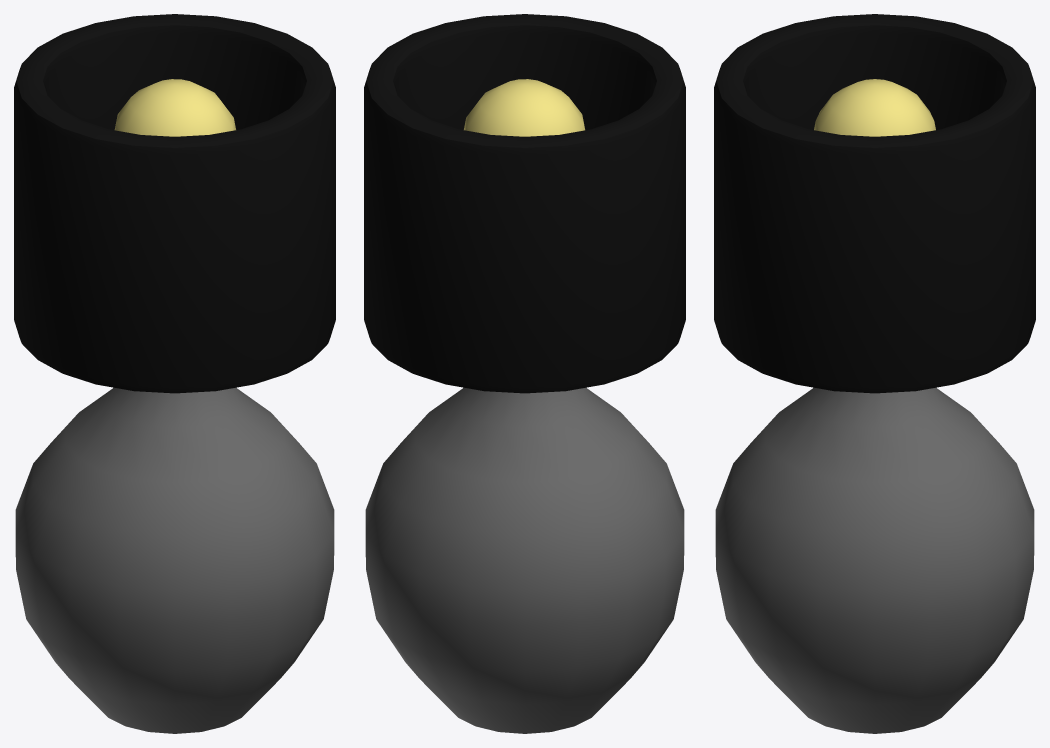
The model's file is SM_lamp_01.fbx.
The picture shows the model from 3 angles, left to right: view 1: azimuth 30°, elevation 25°; view 2: azimuth 150°, elevation 25°; view 3: azimuth 270°, elevation 25°; orthographic projection.
Parts seen in each view (by area): view 1: Cylinder008; view 2: Cylinder008; view 3: Cylinder008.
Boxes of the visible parts, box(x1,y1,x2,y2) form: Cylinder008: box(14, 14, 335, 733); Cylinder008: box(364, 14, 685, 733); Cylinder008: box(714, 14, 1035, 733).
Bounding box in the file's own units: 19.75 × 41.88 × 19.63.
